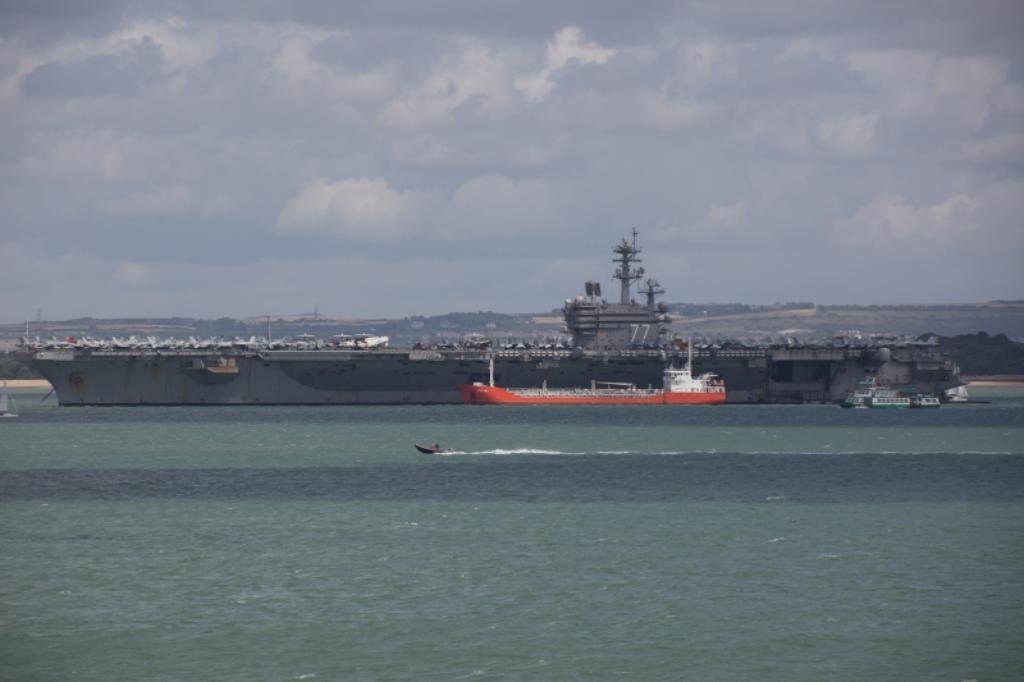Warship: (15, 224, 983, 412)
